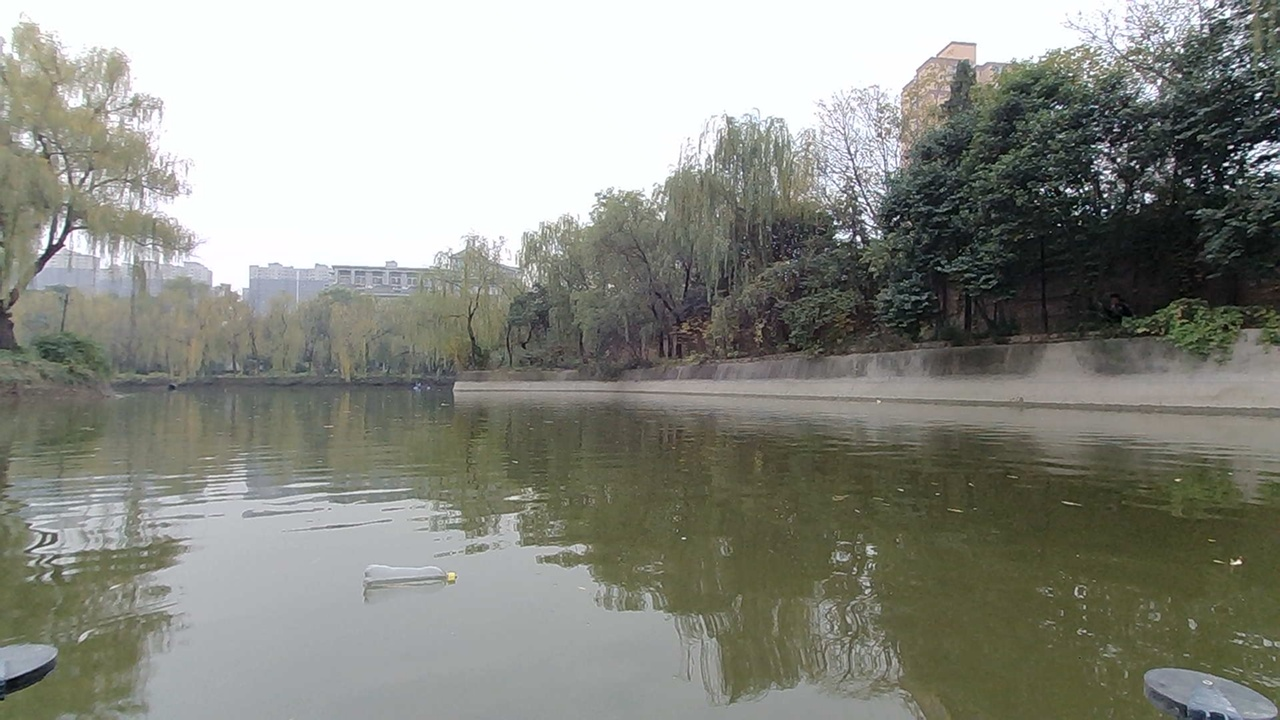bottle: (353, 554, 470, 612)
